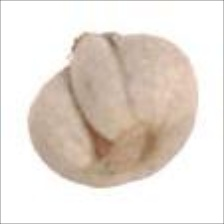L5: (63, 29, 136, 143), (81, 128, 167, 180)
L6: (26, 30, 200, 190)
